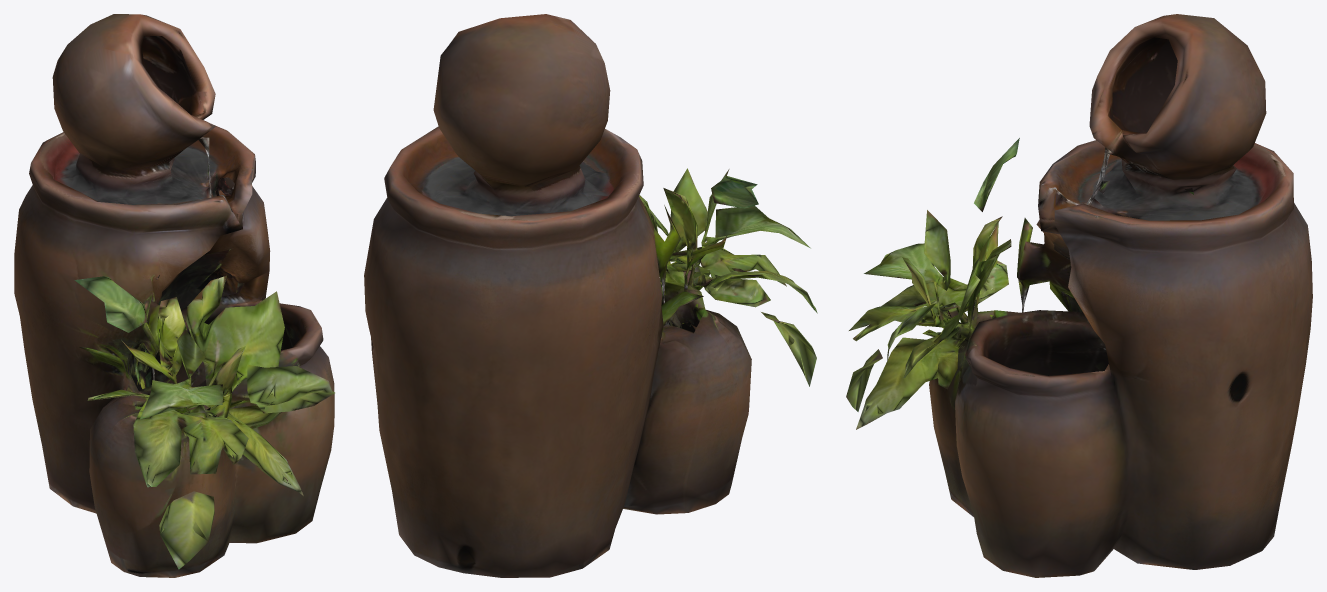
File: Fountain.glb
3 views of the same model, side by side, from view 1: azimuth 30°, elevation 25°; view 2: azimuth 150°, elevation 25°; view 3: azimuth 270°, elevation 25° (orthographic). The views are drawn at different scales.
Size of the model in its own units: 1.2 by 2.01 by 1.71.
Materials: 1 (1 with a texture image).
